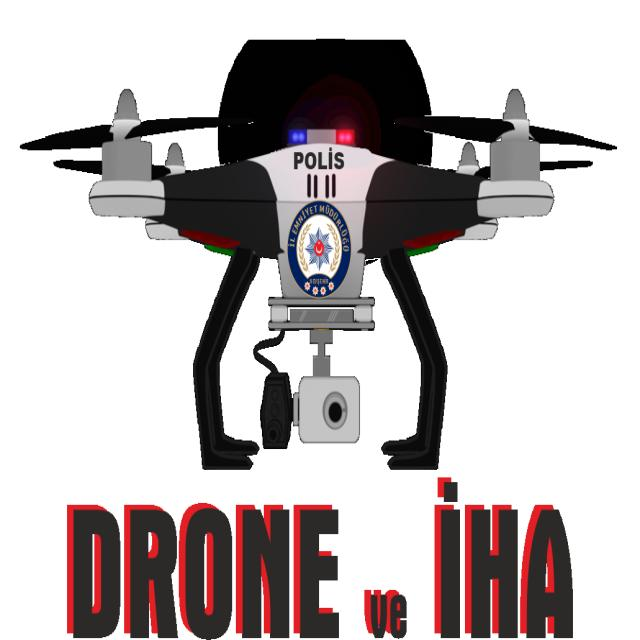drone: (21, 85, 634, 401)
